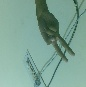hand: (34, 11, 77, 63)
